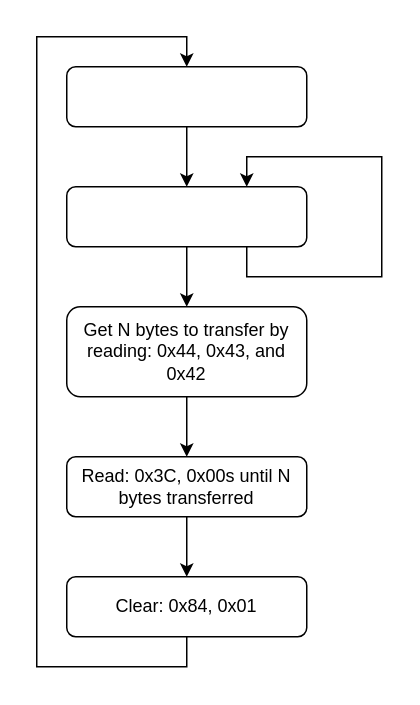
Image size: 420x705. Some labels were removed from this diagram. The centre of each missing label's shape, as x and y in pixels:
Capture: 0x84, 0x02: (x=186, y=96)
Poll: 0x41, AND with 0x08: (x=186, y=216)
